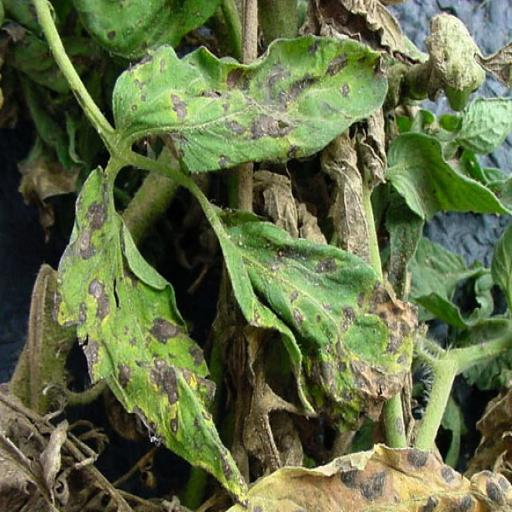Early Blight: (52, 160, 252, 506), (212, 204, 408, 413), (108, 30, 396, 172)
